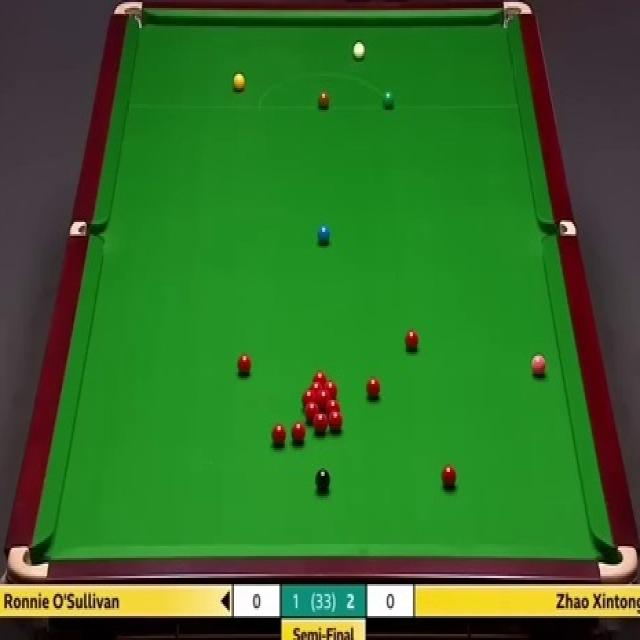pocket: (593, 543, 637, 583), (6, 542, 50, 578), (500, 0, 532, 29), (112, 2, 144, 29), (539, 220, 575, 238), (66, 221, 104, 237)
